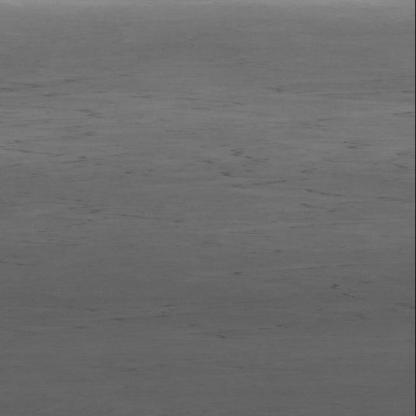silk_spot: (68, 112, 370, 252)
